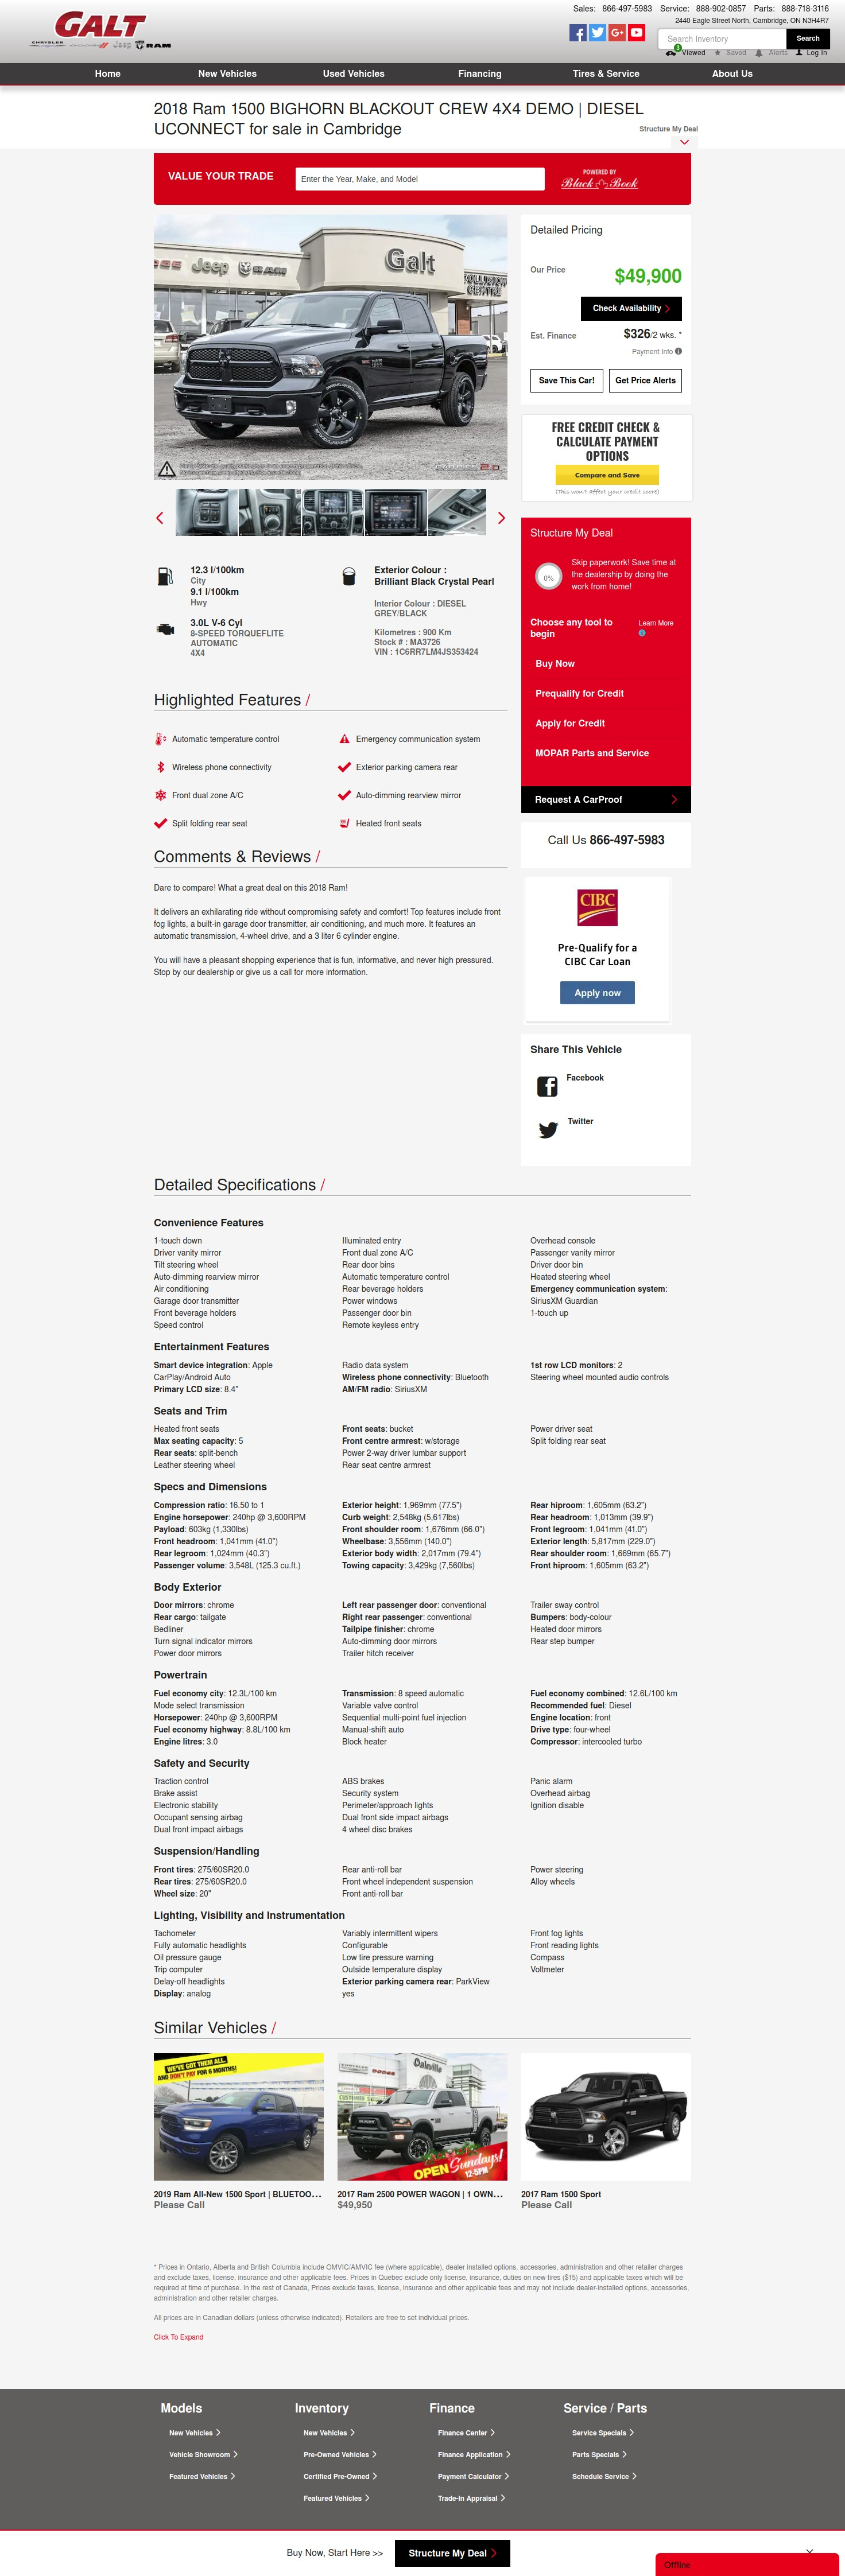car: (498, 513, 506, 524)
